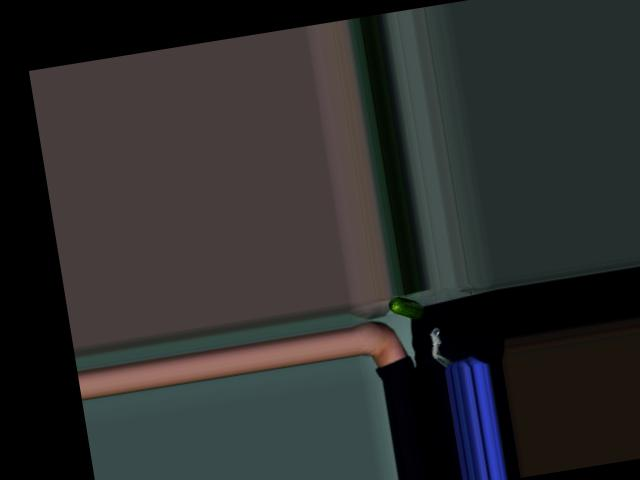cucumber: (387, 292, 424, 323)
